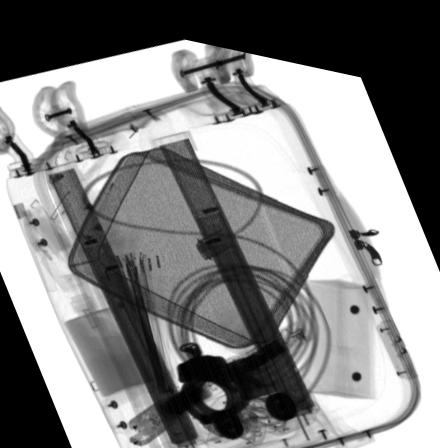Baton: (120, 306, 317, 438)
HandCuffs: (175, 332, 255, 414)
